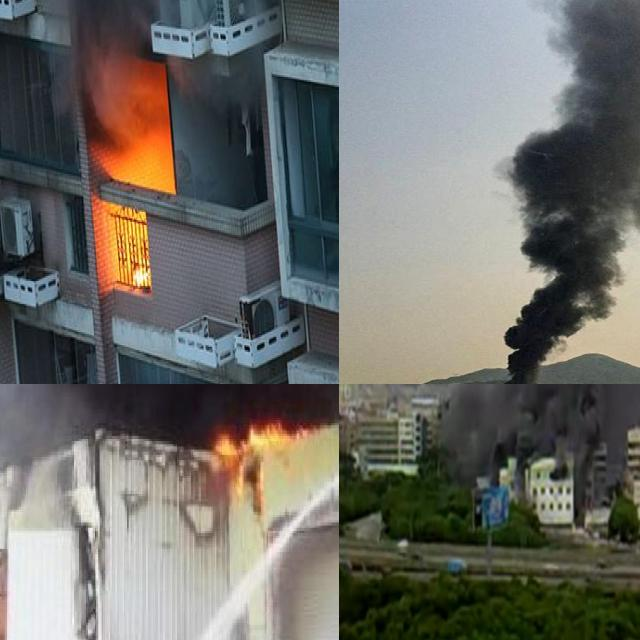fire: (90, 163, 161, 289), (212, 412, 315, 458)
smoke: (495, 0, 640, 384), (0, 384, 339, 455), (30, 0, 195, 145), (425, 384, 640, 475)
